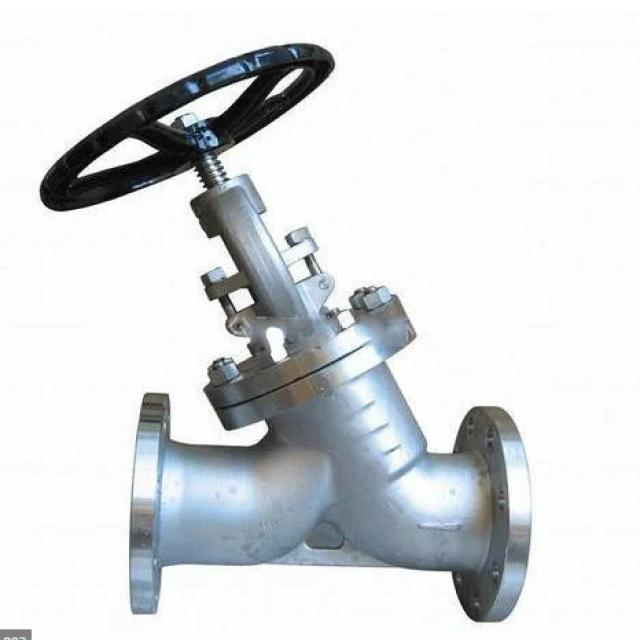Wheel Handle Valve Threaded: (15, 26, 340, 222)
